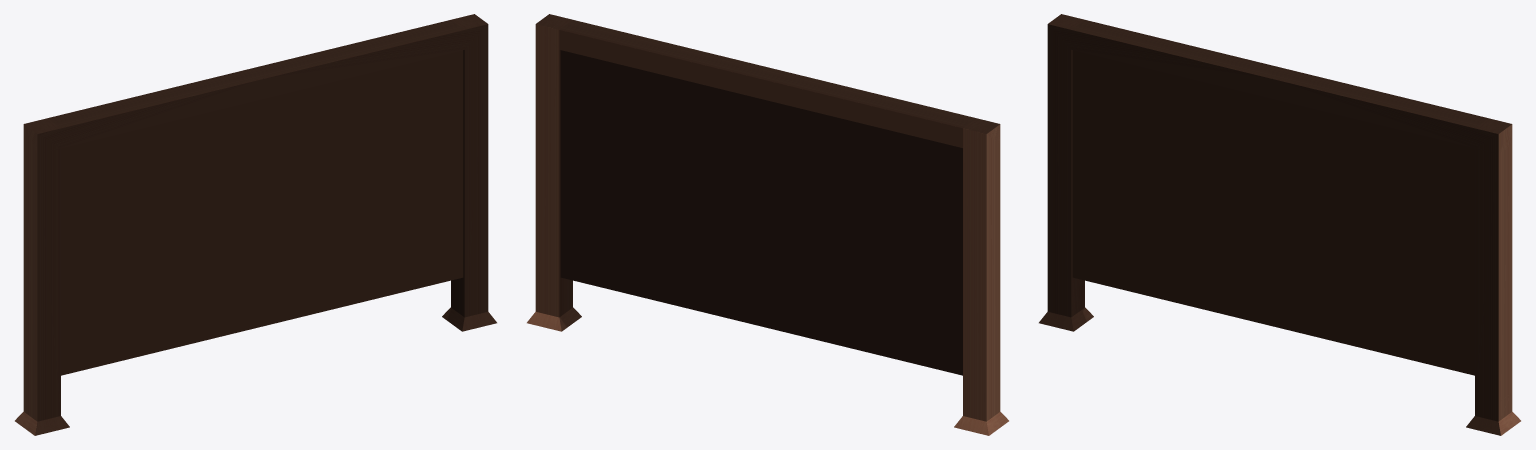
Rendered from board-1024.glb.
The picture shows the model from 3 angles, left to right: view 1: azimuth 30°, elevation 25°; view 2: azimuth 150°, elevation 25°; view 3: azimuth 330°, elevation 25°; orthographic projection.
Visible parts, largest first — view 1: Cube; view 2: Cube; view 3: Cube.
Boxes of the visible parts, bbox=[...] form: Cube: bbox=[15, 14, 496, 435]; Cube: bbox=[527, 14, 1008, 435]; Cube: bbox=[1039, 14, 1520, 435].
Size of the model in its own units: 6.5 by 4 by 0.4999.
Materials: 1 (1 with a texture image).
